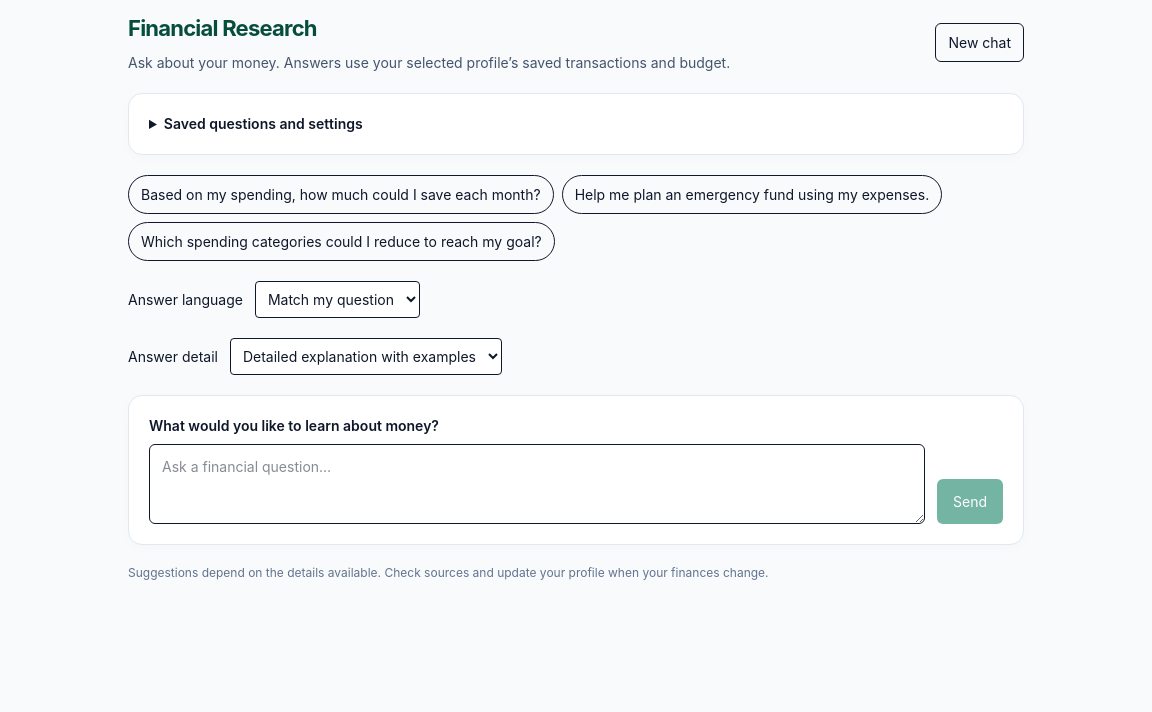
it: Financial Research page › allows brief answers and distinguishes context from actual research failure
This screenshot has width=1152, height=712.
Select "Brief answer" in the dropdown labelled "Answer detail" at [366, 356], box [230,338,502,375]
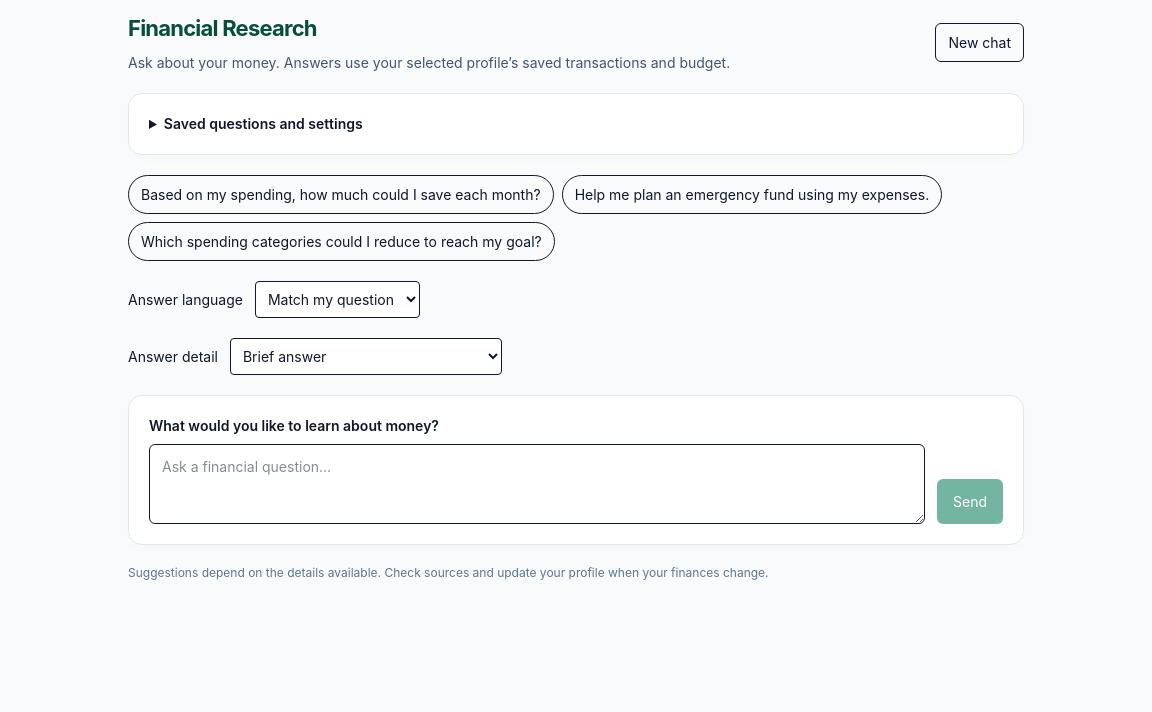
Type "Explain saving" into the text box labelled "What would you like to learn about money?" at [537, 484], box [149,444,925,524]
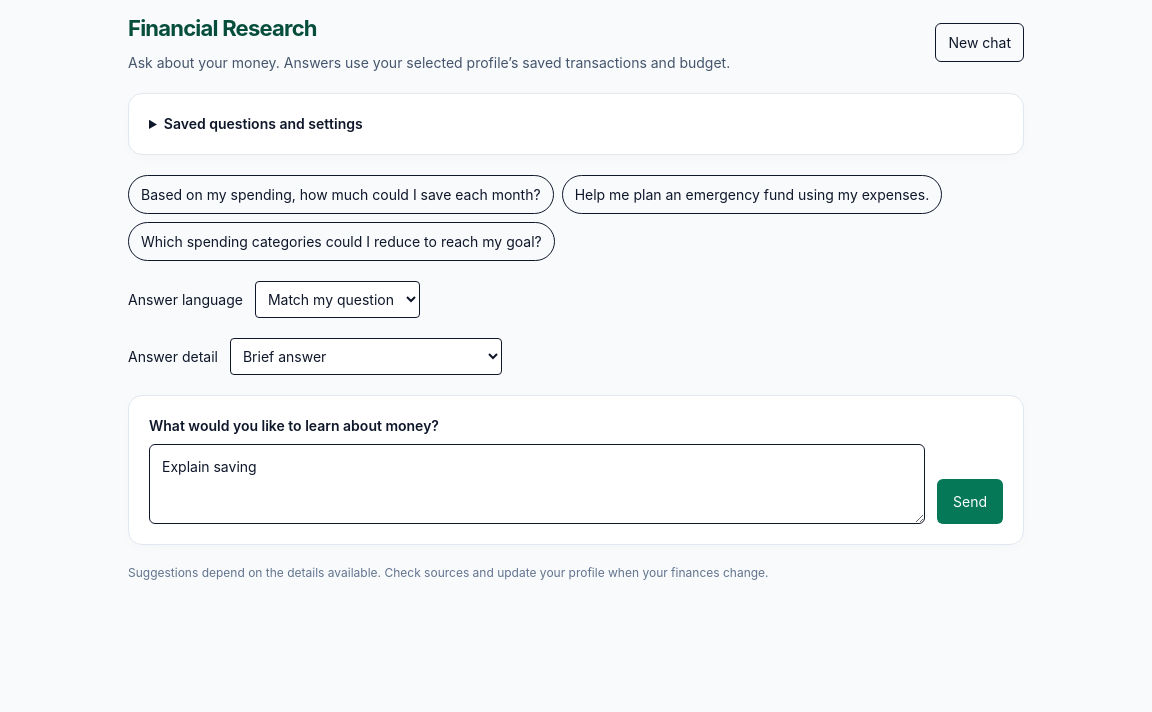
Click the button "Send" at [970, 502], box [937,479,1003,524]
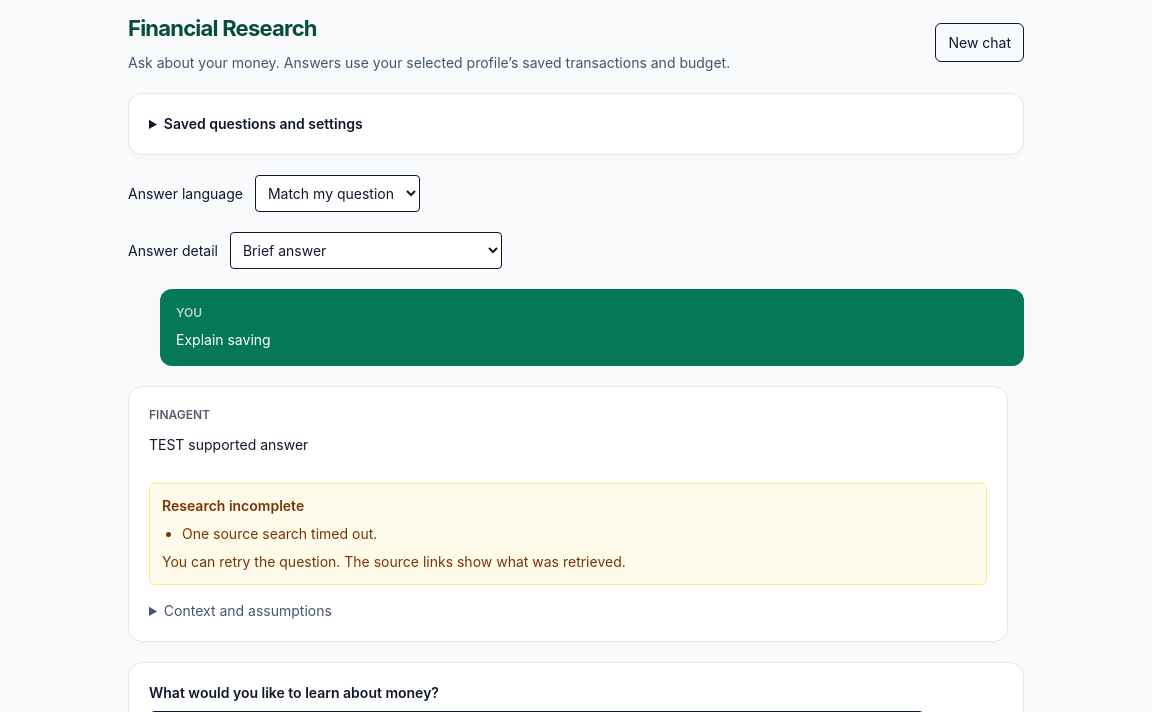
Result: the text "TEST supported answer" is shown at [149,436,308,453]
Result: the heading "Context and assumptions" is shown at [164,602,332,619]
Result: the text "Research incomplete" is shown at [162,497,304,514]
